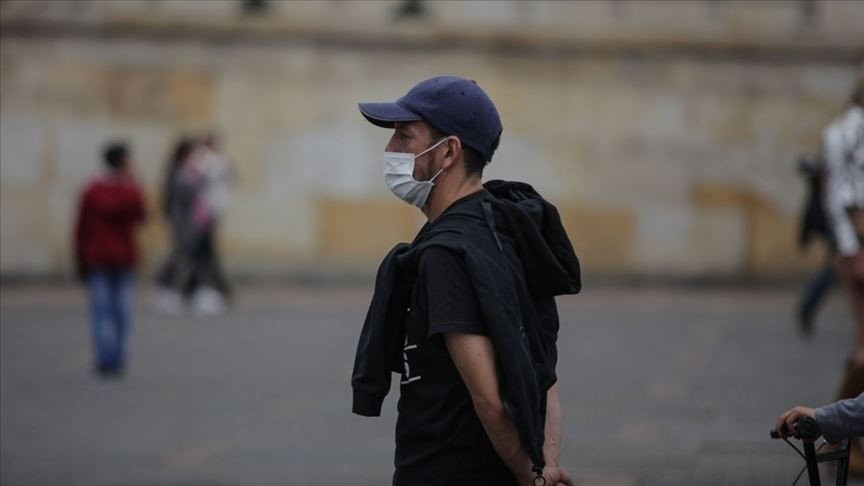face_with_mask: (381, 80, 502, 211)
